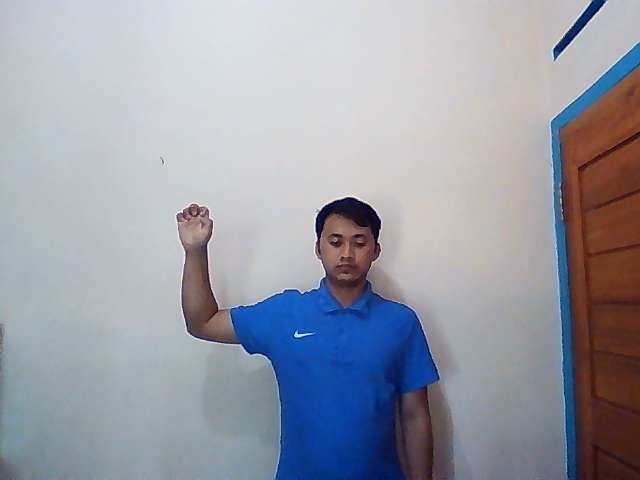E: (174, 203, 214, 252)
